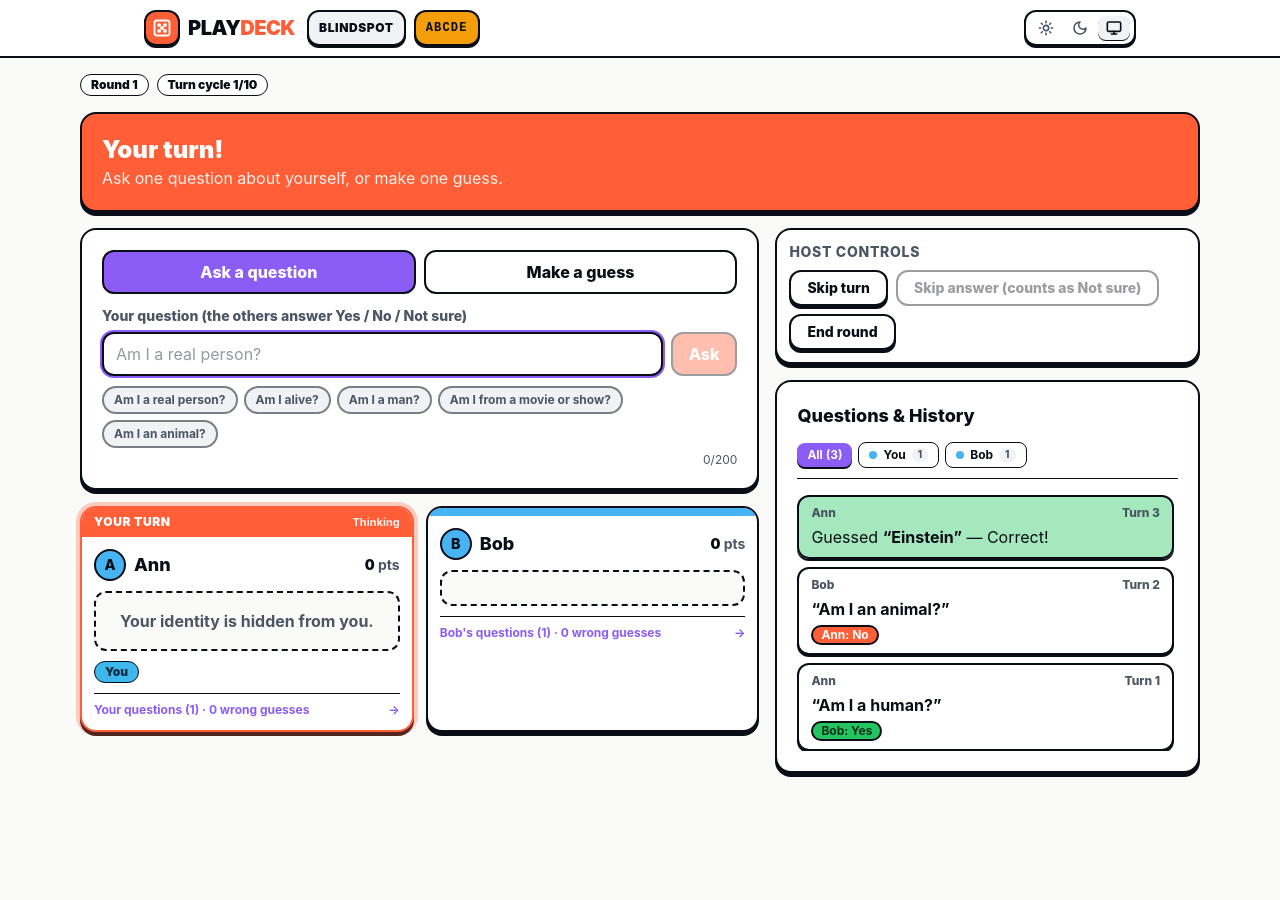
Scenario: Game › filters questions of each player separately
Expected: the text "“Am I a human?”" is shown, [811, 695, 941, 715]
Expected: the text "“Am I an animal?”" is shown, [811, 599, 949, 619]
# Filter to Ann's questions
Click the tab with test id "history-filter-Ann".
click(899, 455)  # box [858, 442, 939, 468]
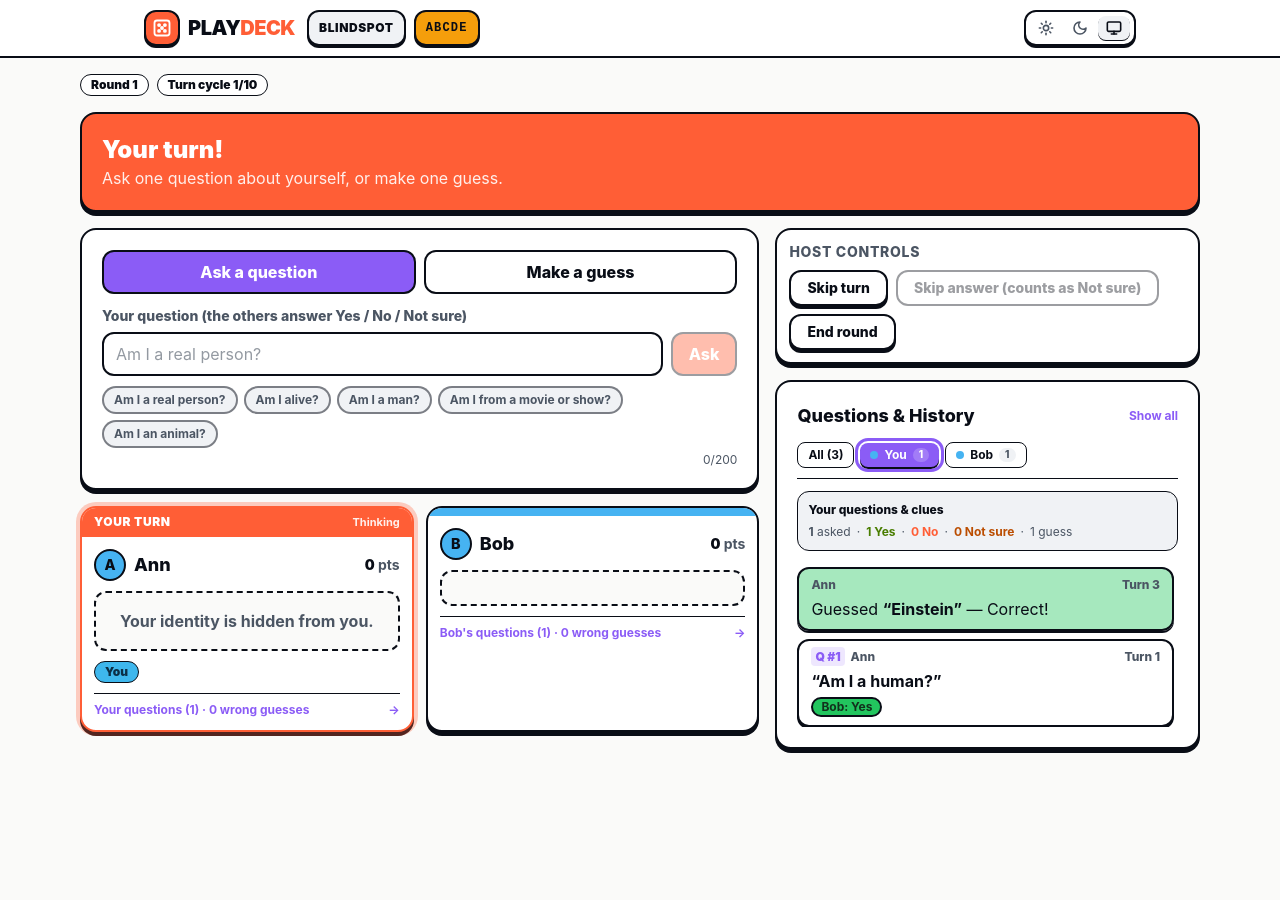
Expected: the text "“Am I a human?”" is shown, [811, 671, 941, 691]
Expected: the text "“Am I an animal?”" is gone
Expected: the text "Your questions & clues" is shown, [808, 502, 944, 518]
# Filter to Bob's questions
Click the tab with test id "history-filter-Bob".
click(986, 455)  # box [945, 442, 1026, 468]
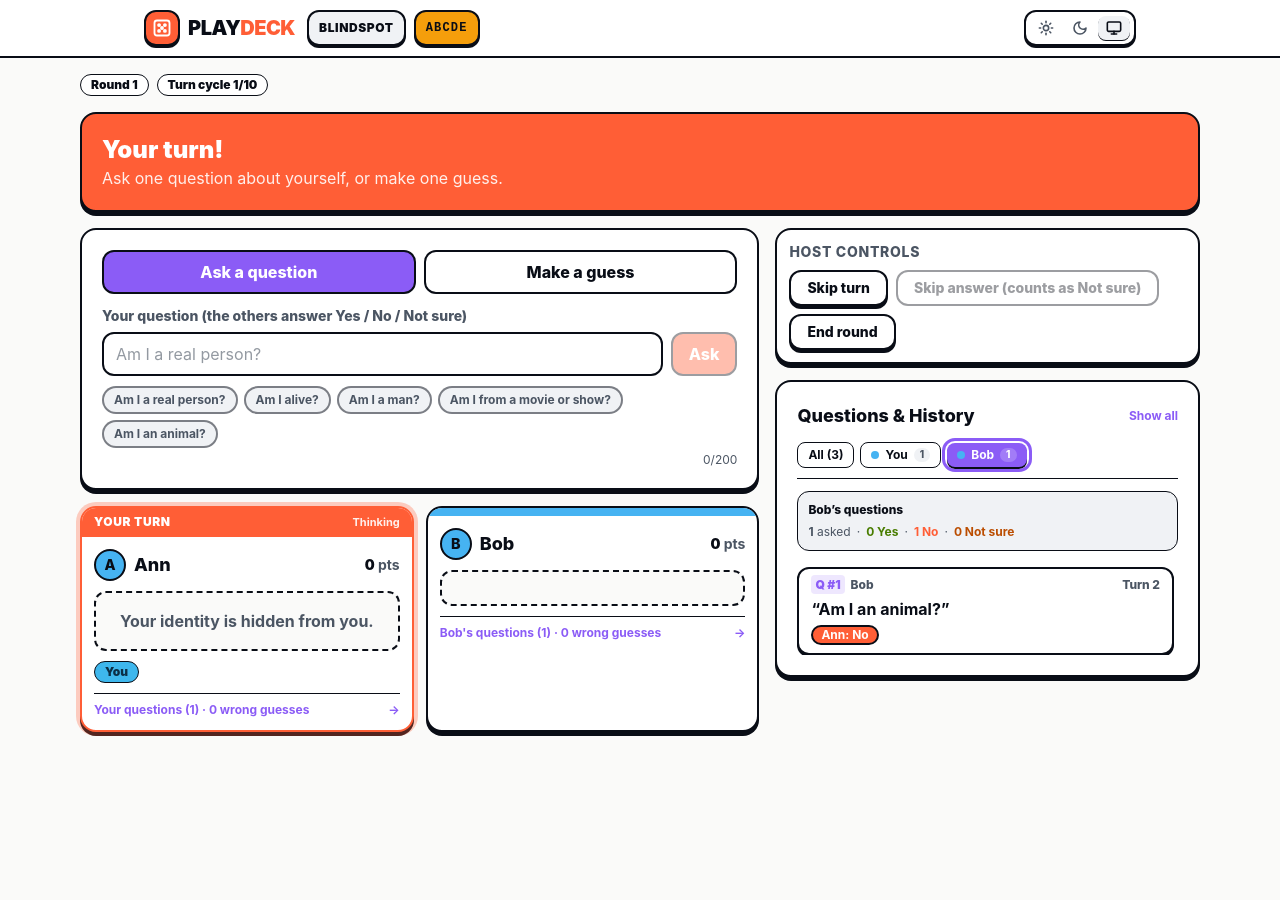
Expected: the text "“Am I an animal?”" is shown, [811, 599, 949, 619]
Expected: the text "“Am I a human?”" is gone
Expected: the text "Bob’s questions" is shown, [808, 502, 903, 518]
# Reset back to All
Click the tab with test id "history-filter-all".
click(826, 455)  # box [797, 442, 854, 468]
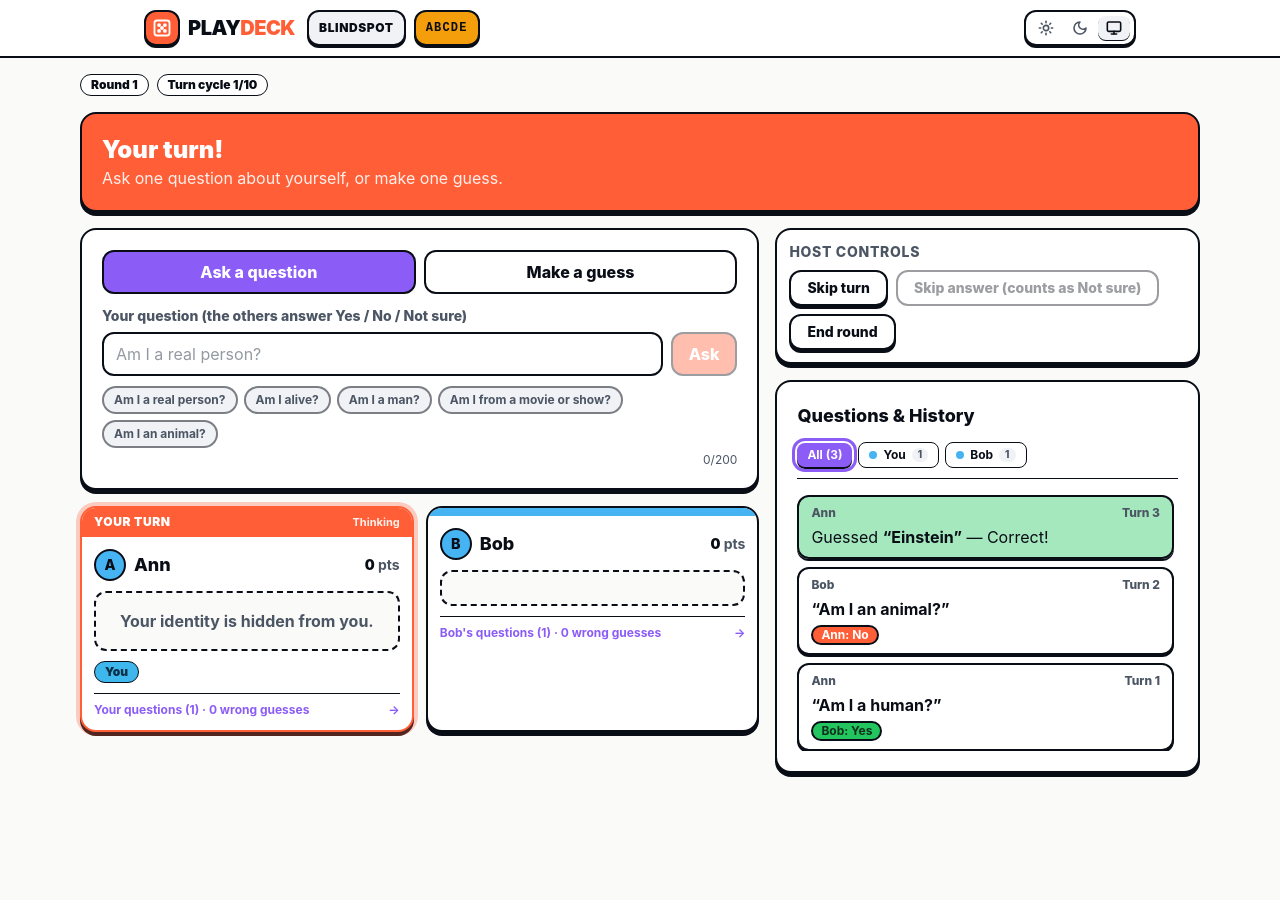
Expected: the text "“Am I an animal?”" is shown, [811, 599, 949, 619]
Expected: the text "“Am I a human?”" is shown, [811, 695, 941, 715]
